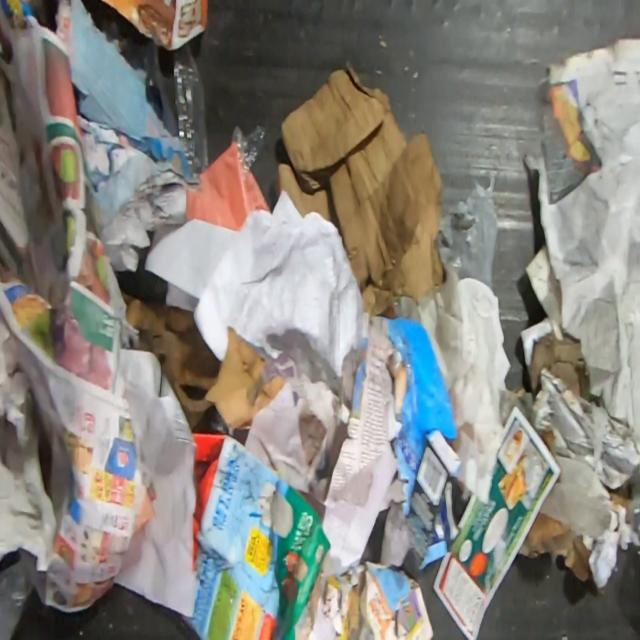cardboard: (277, 59, 446, 316), (176, 431, 332, 640), (408, 429, 474, 571), (100, 0, 210, 51)
soft_plastic: (438, 167, 499, 289), (172, 39, 210, 175), (230, 122, 268, 184)
